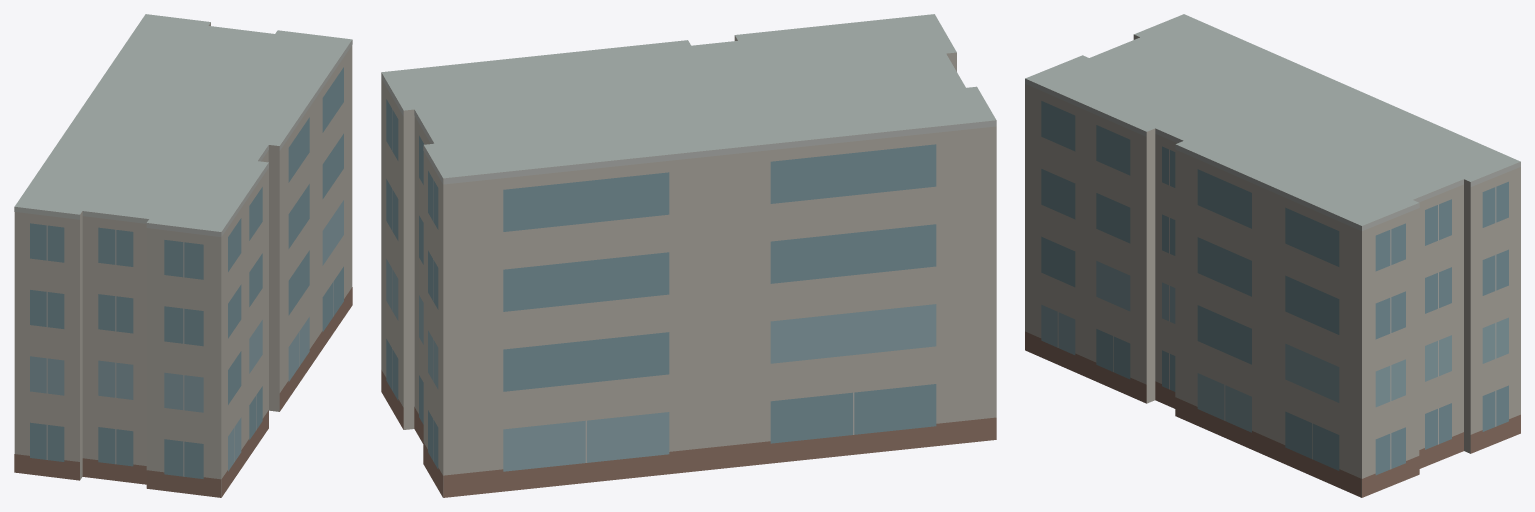
File: survey-upis-32730045.glb
3 renders of one model, left to right at view 1: azimuth 30°, elevation 25°; view 2: azimuth 150°, elevation 25°; view 3: azimuth 270°, elevation 25°, orthographic. The views are drawn at different scales.
Parts seen in each view (by area): view 1: survey-upis-32730045.tmp; view 2: survey-upis-32730045.tmp; view 3: survey-upis-32730045.tmp.
Boxes of the visible parts, left/top/right/bottom form: survey-upis-32730045.tmp: left=14, top=14, right=352, bottom=497; survey-upis-32730045.tmp: left=381, top=14, right=996, bottom=497; survey-upis-32730045.tmp: left=1025, top=14, right=1520, bottom=497.
Bounding box in the file's own units: 21.25 × 12.7 × 21.
